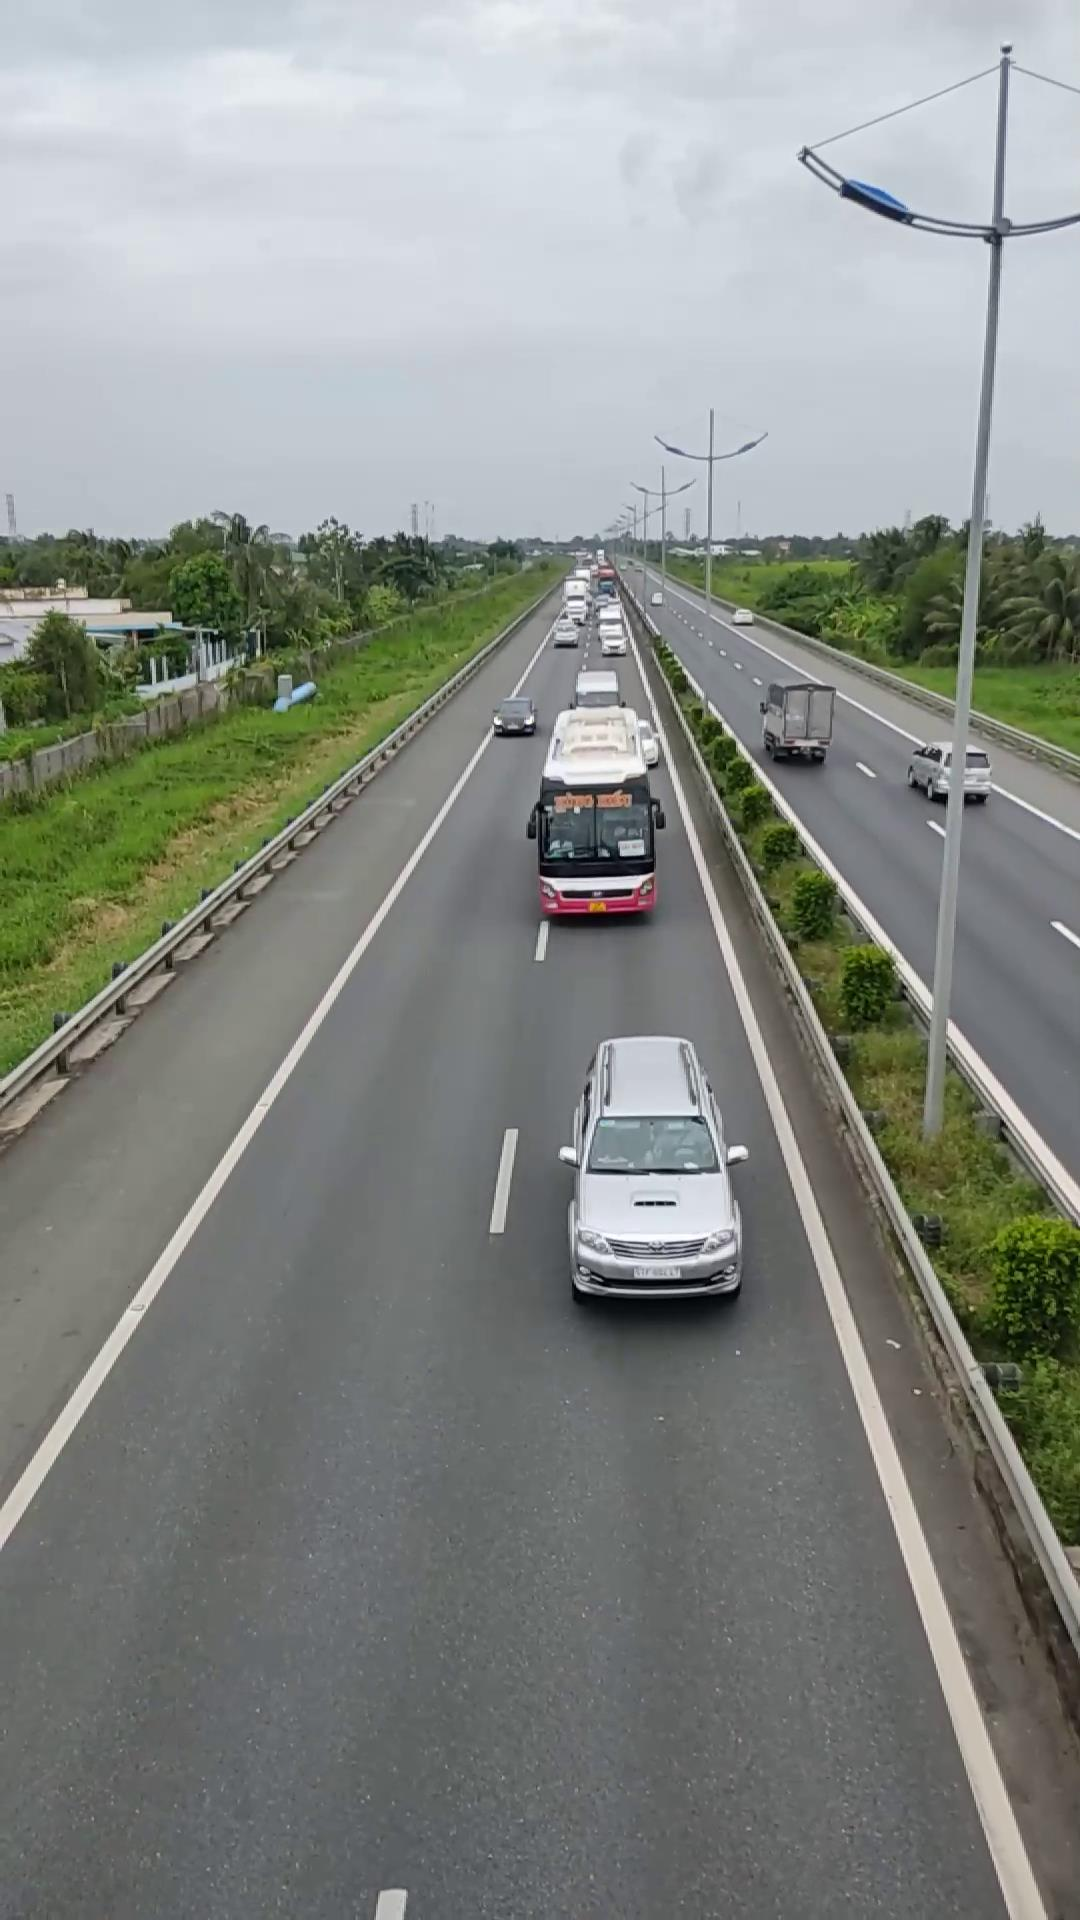bus: (530, 705, 665, 918)
car: (558, 1034, 746, 1303)
truck: (758, 673, 834, 762)
